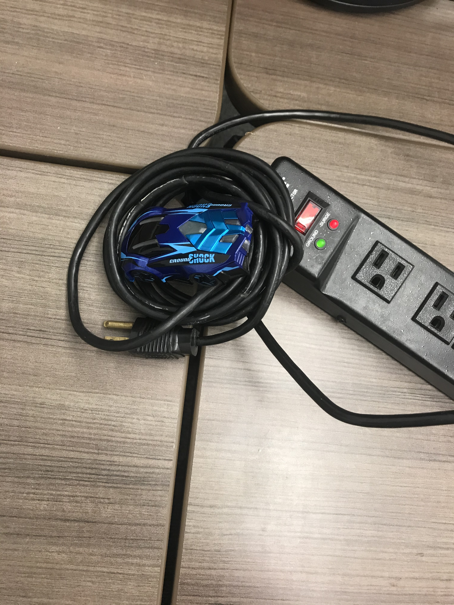Shock: (117, 200, 256, 285)
